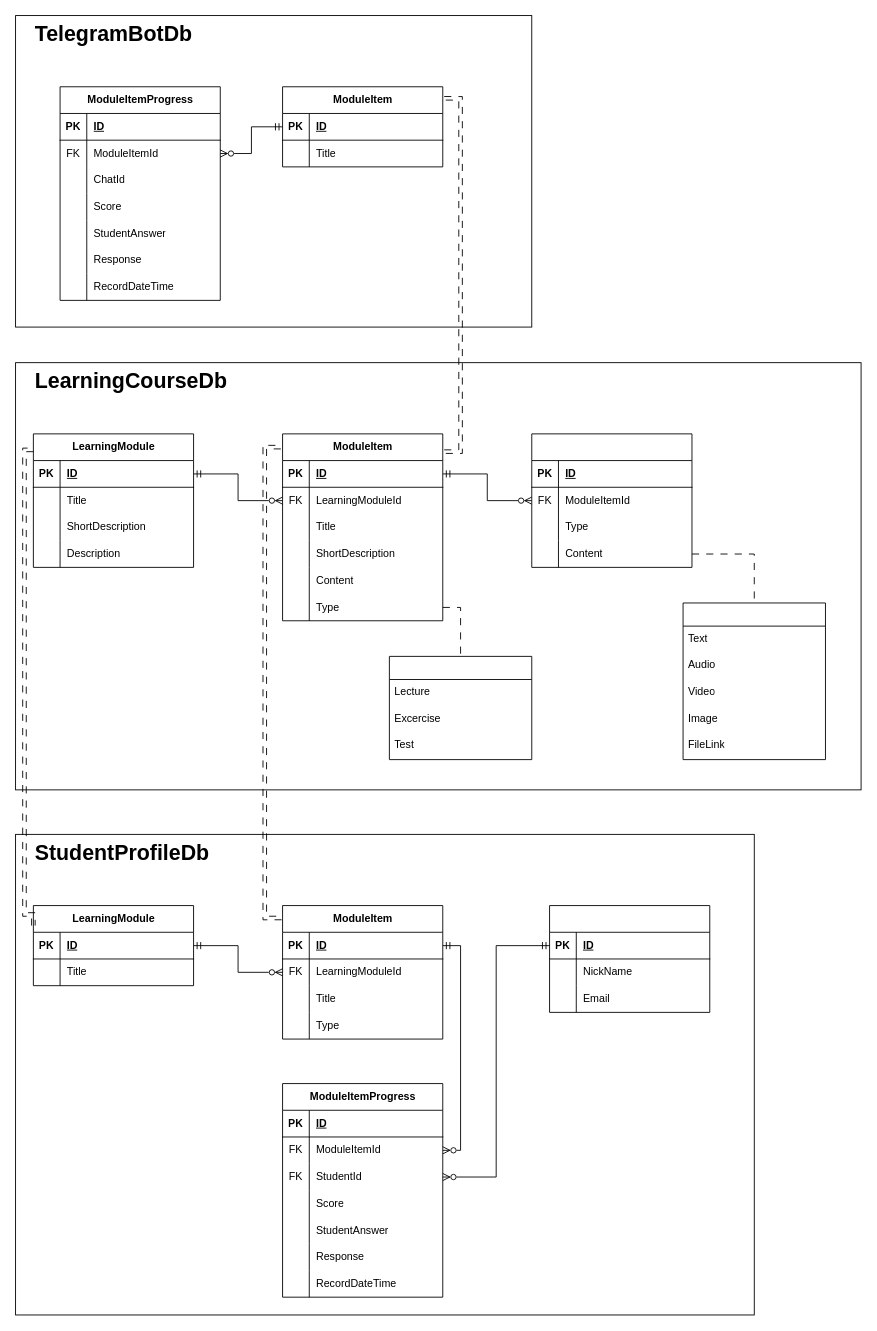
The diagram is 877 pixels wide and 1331 high, and some of its shapes have lost their labels. The box of each missing label's shape, as (x1, y1, x2, y2) in pixels:
ModuleItemBlock: (531, 433, 692, 567)
ModuleItemBlockType: (682, 602, 825, 760)
ModuleItemType: (388, 655, 532, 760)
Student: (549, 905, 710, 1012)
